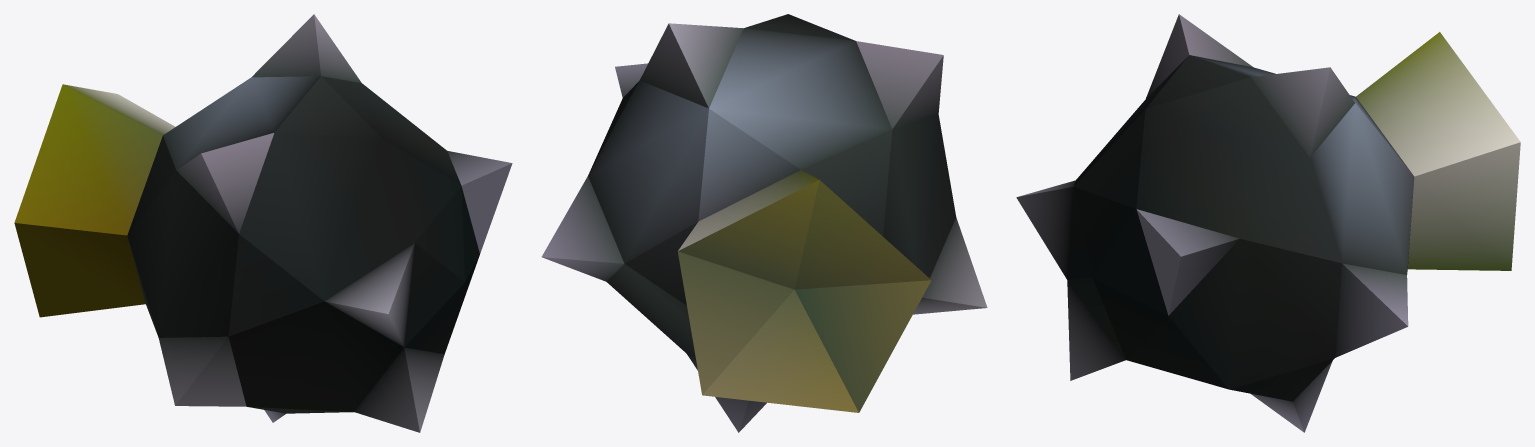
File: jwaa.hrc.gltf
3 renders of one model, left to right at view 1: azimuth 30°, elevation 25°; view 2: azimuth 150°, elevation 25°; view 3: azimuth 270°, elevation 25°, orthographic. The views are drawn at different scales.
Parts seen in each view (by area): view 1: jwaaBone0_0; view 2: jwaaBone0_0; view 3: jwaaBone0_0.
Part boxes in pixels (x1=…): jwaaBone0_0: x1=14, y1=14, x2=512, y2=432; jwaaBone0_0: x1=541, y1=14, x2=987, y2=432; jwaaBone0_0: x1=1016, y1=14, x2=1520, y2=432.
Bounding box in the file's own units: 723 × 668 × 778.
